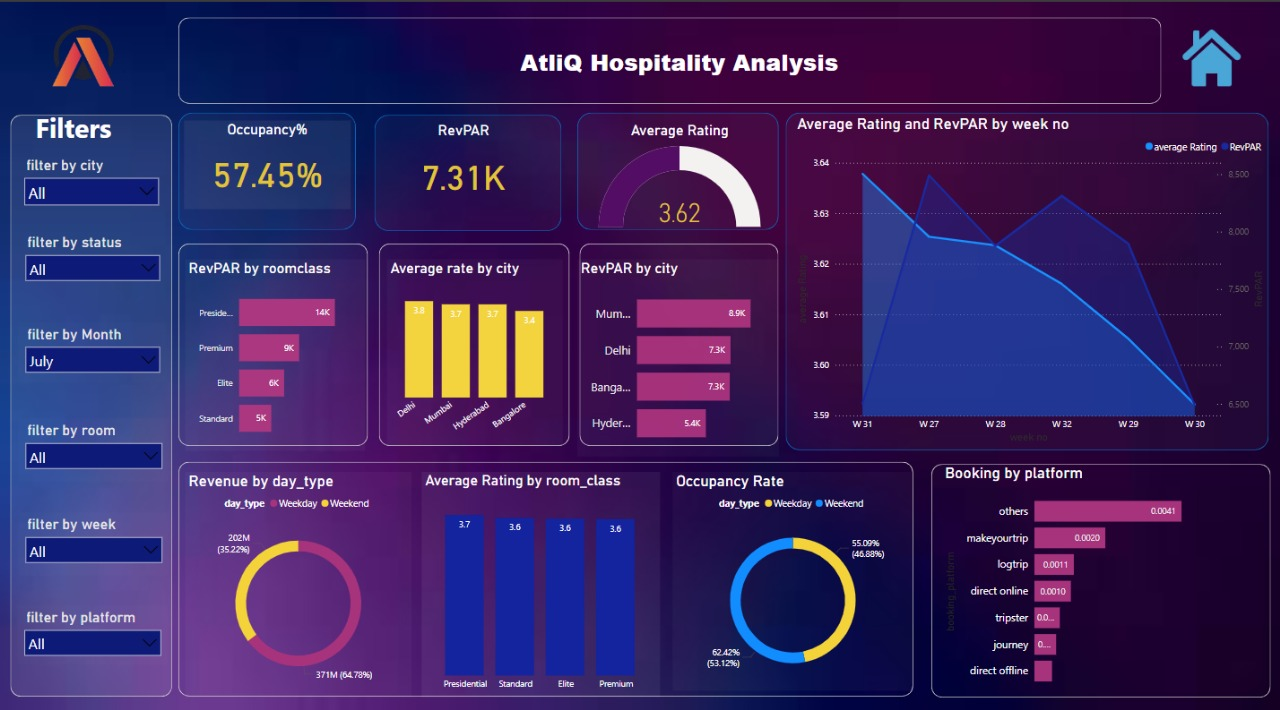

Layout of this report page (visuals, bound fields, positions):
{"tool":"powerbi","page":{"name":"KPI Views","canvas":[1800,1000],"ordinal":2},"visuals":[{"type":"shape","box":[252.6,646.7,1032.4,330.1],"z":0},{"type":"shape","box":[815.2,340.2,279.6,284.6],"z":1000},{"type":"barChart","title":"Booking by platform ","fields":{"Category":["fact_bookings.booking_platform"],"Y":["key_measures.Booking % by platform"]},"box":[1323.8,650.1,449.7,326.7],"z":2000},{"type":"shape","box":[252.6,21.9,1381.1,121.3],"z":3000},{"type":"shape","box":[15.2,158.3,227.4,818.5],"z":4000},{"type":"slicer","fields":{"Values":["dim_hotel.city"]},"box":[24.9,212.7,208.9,90.4],"z":5000},{"type":"slicer","fields":{"Values":["dim_rooms.room_class"]},"box":[26.9,586.1,212.2,89.3],"z":6000},{"type":"columnChart","title":"Average rate by city","fields":{"Category":["dim_hotel.city"],"Y":["key_measures.average Rating"]},"box":[544,362.1,247.6,262.7],"z":7000},{"type":"slicer","fields":{"Values":["fact_bookings.booking_status"]},"box":[26.9,321.7,208.8,80.8],"z":9000},{"type":"slicer","fields":{"Values":["fact_bookings.booking_platform"]},"box":[25.3,848.8,212.2,84.2],"z":10000},{"type":"slicer","fields":{"Values":["dim_date.mmm yy.Variation.Date Hierarchy.Month"]},"box":[26.9,449.7,208.8,85.9],"z":11000},{"type":"textbox","box":[45.5,146.5,195.4,65.7],"z":12000},{"type":"textbox","box":[555.8,57.3,800,69.1],"z":13000},{"type":"card","title":"Occupancy%","fields":{"Values":["key_measures.Occupancy%"]},"box":[259.4,166.7,234.1,124.6],"z":15000},{"type":"card","title":"RevPAR","fields":{"Values":["key_measures.RevPAR"]},"box":[544,168.4,215.6,122.9],"z":16000},{"type":"gauge","title":"Average Rating","fields":{"Y":["key_measures.average Rating"]},"box":[837.1,168.4,237.5,153.3],"z":17000},{"type":"barChart","title":"RevPAR by roomclass","fields":{"Category":["dim_rooms.room_class"],"Y":["key_measures.RevPAR"]},"box":[261.1,362.1,252.6,269.5],"z":18000},{"type":"barChart","title":"RevPAR by city","fields":{"Category":["dim_hotel.city"],"Y":["key_measures.RevPAR"]},"box":[811.8,362.1,282.9,277.9],"z":19000},{"type":"donutChart","title":"Occupancy Rate","fields":{"Y":["key_measures.Occupancy%"],"Series":["dim_date.day_type"]},"box":[946.5,661.9,338.5,308.2],"z":20000},{"type":"areaChart","title":"Average Rating and RevPAR by week no ","fields":{"Category":["dim_date.week no"],"Y":["key_measures.average Rating"],"Y2":["key_measures.RevPAR"]},"box":[1116.6,158.3,666.9,466.5],"z":21000},{"type":"shape","box":[1310.3,650.1,476.6,328.4],"z":22000},{"type":"shape","box":[533.9,340.2,267.8,284.6],"z":23000},{"type":"shape","box":[252.6,340.2,266.1,284.6],"z":24000},{"type":"shape","box":[811.8,156.6,282.9,165.1],"z":25000},{"type":"shape","box":[527.2,158.3,262.7,163.4],"z":26000},{"type":"shape","box":[252.6,156.6,249.3,165.1],"z":27000},{"type":"shape","box":[1104.8,156.6,678.7,474.9],"z":28000},{"type":"donutChart","fields":{"Y":["key_measures.Revenue"],"Series":["dim_date.day_type"]},"box":[261.1,661.9,318.3,316.6],"z":29000},{"type":"slicer","fields":{"Values":["dim_date.week no"]},"box":[26.9,717.5,212.2,89.3],"z":30000},{"type":"columnChart","title":"Average Rating by room_class","fields":{"Category":["dim_rooms.room_class"],"Y":["key_measures.average Rating"]},"box":[592.8,661.9,335.2,316.6],"z":31000},{"type":"image","box":[1633.7,13.5,139.8,129.7],"z":31001},{"type":"image","box":[45.5,6.7,136.4,139.8],"z":31002}]}

Visuals, with their boxes in screenshot pixels (x1, y1, x2, y2), scaled from the page's 1800x1000 canvas onto the 1280x710 screenshot:
shape: box=[180, 459, 914, 694]
shape: box=[580, 242, 779, 444]
"Booking by platform " barChart: box=[941, 462, 1261, 694]
shape: box=[180, 16, 1162, 102]
shape: box=[11, 112, 173, 694]
slicer - dim_hotel.city: box=[18, 151, 166, 215]
slicer - dim_rooms.room_class: box=[19, 416, 170, 480]
"Average rate by city" columnChart: box=[387, 257, 563, 444]
slicer - fact_bookings.booking_status: box=[19, 228, 168, 286]
slicer - fact_bookings.booking_platform: box=[18, 603, 169, 662]
slicer - dim_date.mmm yy.Variation.Date Hierarchy.Month: box=[19, 319, 168, 380]
textbox: box=[32, 104, 171, 151]
textbox: box=[395, 41, 964, 90]
"Occupancy%" card: box=[184, 118, 351, 207]
"RevPAR" card: box=[387, 120, 540, 207]
"Average Rating" gauge: box=[595, 120, 764, 228]
"RevPAR by roomclass" barChart: box=[186, 257, 365, 448]
"RevPAR by city" barChart: box=[577, 257, 778, 454]
"Occupancy Rate" donutChart: box=[673, 470, 914, 689]
"Average Rating and RevPAR by week no " areaChart: box=[794, 112, 1268, 444]
shape: box=[932, 462, 1271, 695]
shape: box=[380, 242, 570, 444]
shape: box=[180, 242, 369, 444]
shape: box=[577, 111, 778, 228]
shape: box=[375, 112, 562, 228]
shape: box=[180, 111, 357, 228]
shape: box=[786, 111, 1268, 448]
donutChart - key_measures.Revenue x dim_date.day_type: box=[186, 470, 412, 695]
slicer - dim_date.week no: box=[19, 509, 170, 573]
"Average Rating by room_class" columnChart: box=[422, 470, 660, 695]
image: box=[1162, 10, 1261, 102]
image: box=[32, 5, 129, 104]
